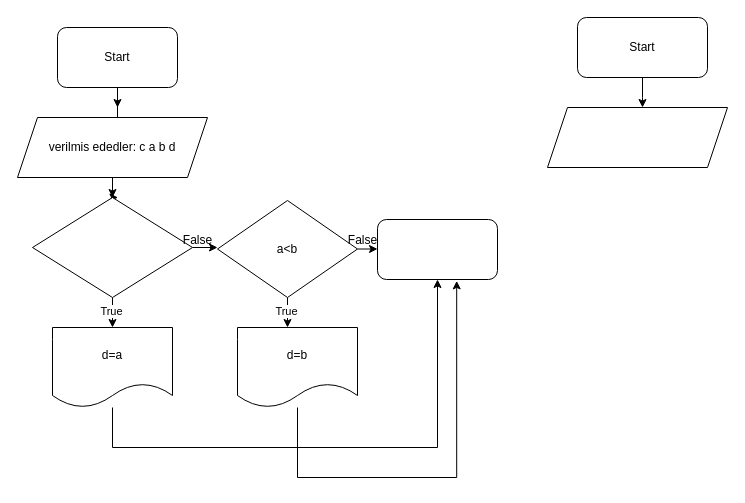
Some shapes in this 745 by 503 pixel diagram are drawn without their labels. The shapes that lost their labels are listed below. From the top down, each one's centre as x and y in pixels, then its label:
(x=637, y=137): verilmis ededler: a b c d e
(x=112, y=247): a>b
(x=437, y=249): End
